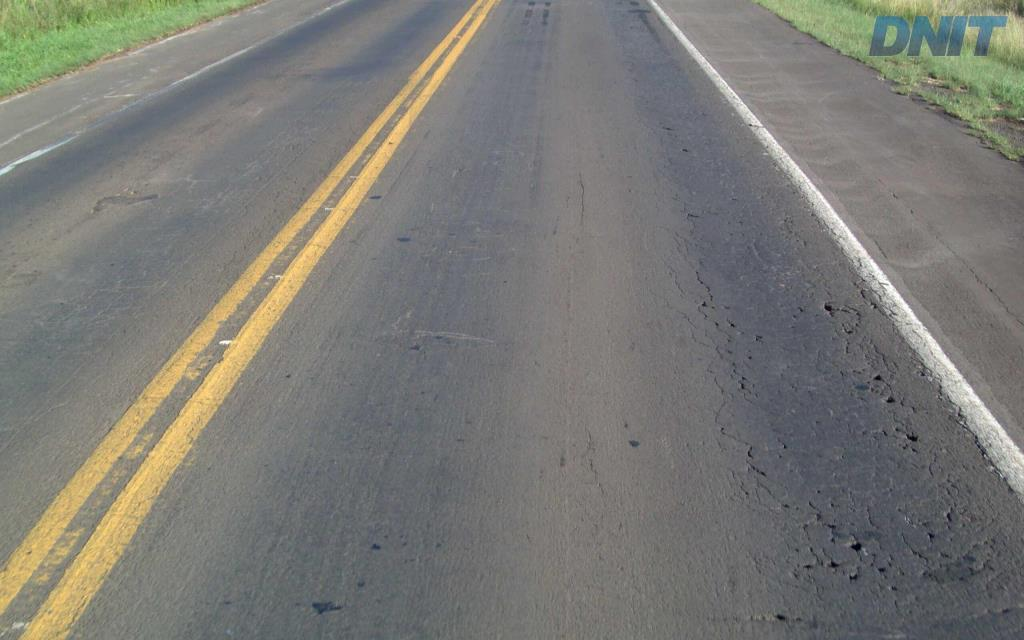crack: (939, 556, 994, 600)
